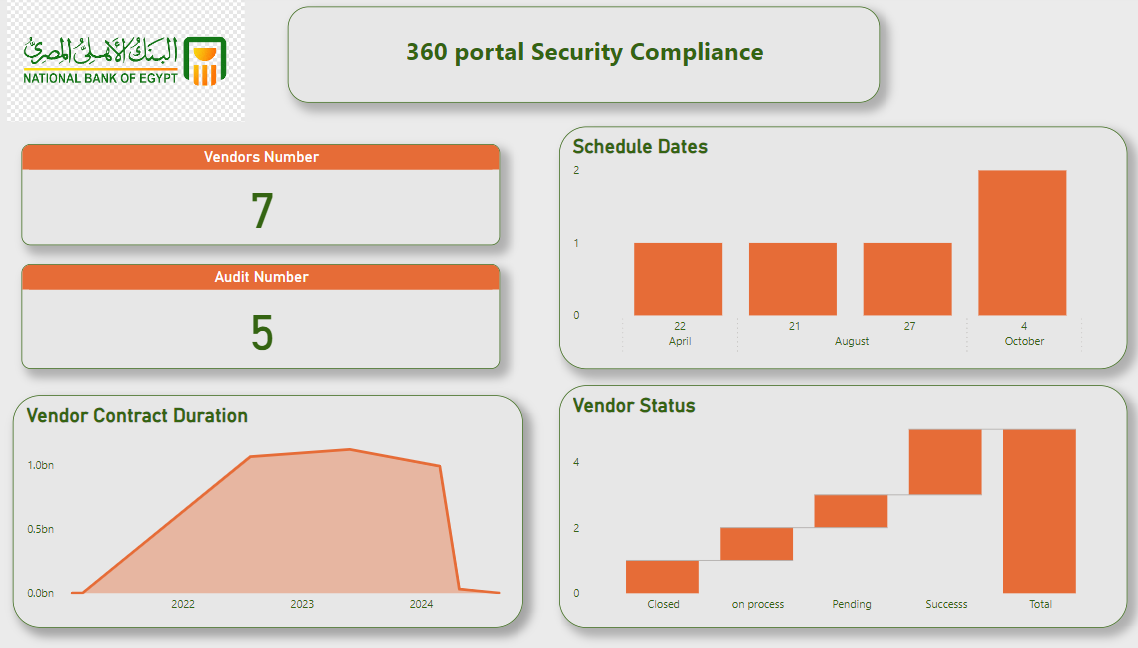

What the dashboard file says about the page in this screenshot:
{"tool":"powerbi","page":{"name":"Page 1","canvas":[1280,720],"ordinal":0},"visuals":[{"type":"waterfallChart","title":" Vendor Status","fields":{"Category":["Audit.Status","Audit.Timestamp.Variation.Date Hierarchy.Year","Audit.Timestamp.Variation.Date Hierarchy.Quarter","Audit.Timestamp.Variation.Date Hierarchy.Month","Audit.Timestamp.Variation.Date Hierarchy.Day"],"Y":["CountNonNull(Audit.Id)"]},"box":[631.2,429.5,624.4,266.2],"z":0},{"type":"clusteredColumnChart","title":"Schedule Dates","fields":{"Y":["CountNonNull(Audit.Id)"],"Category":["Audit.Timestamp.Variation.Date Hierarchy.Month","Audit.Timestamp.Variation.Date Hierarchy.Day"]},"box":[631.2,145.5,624.4,266.2],"z":1000},{"type":"areaChart","title":"Vendor Contract Duration","fields":{"Category":["ThirdParties.ContractDuration"],"Y":["Sum(ThirdParties.ContactNumber)"]},"box":[31.6,440.5,559.9,255.2],"z":2000},{"type":"card","title":"Audit Number","fields":{"Values":["Count(Audit)"]},"box":[41.2,296.4,525.6,115.3],"z":3000},{"type":"textbox","box":[333.4,13.7,650.4,105.7],"z":4000},{"type":"card","title":"Vendors Number","fields":{"Values":["CountNonNull(ThirdParties.Id)"]},"box":[41.2,164.7,525.6,111.1],"z":5000},{"type":"image","box":[20.6,0,270.3,145.5],"z":6000}]}

Visuals, with their boxes in screenshot pixels (x1, y1, x2, y2), scaled from the page's 1280x720 canvas onto the 1138x648 screenshot:
" Vendor Status" waterfallChart: x1=561 y1=387 x2=1116 y2=626
"Schedule Dates" clusteredColumnChart: x1=561 y1=131 x2=1116 y2=371
"Vendor Contract Duration" areaChart: x1=28 y1=396 x2=526 y2=626
"Audit Number" card: x1=37 y1=267 x2=504 y2=371
textbox: x1=296 y1=12 x2=875 y2=107
"Vendors Number" card: x1=37 y1=148 x2=504 y2=248
image: x1=18 y1=0 x2=259 y2=131
